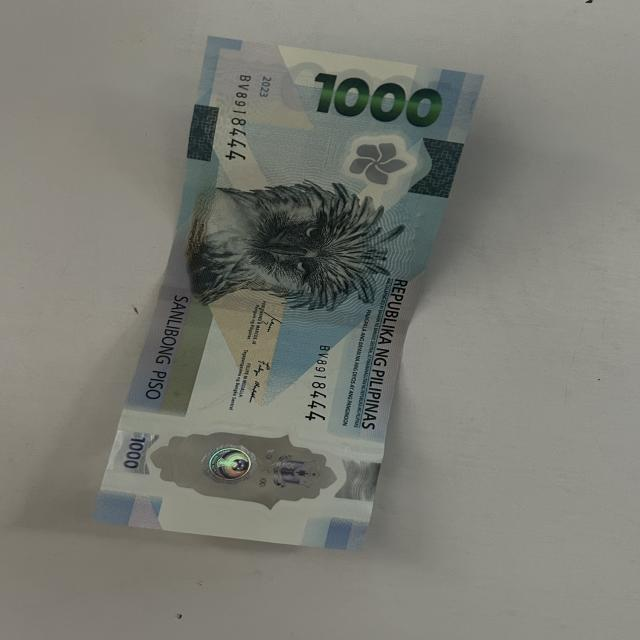clear_window: (148, 423, 343, 513)
eagle: (196, 180, 390, 312)
sampaguita: (346, 136, 411, 186)
security_thread: (156, 285, 411, 337)
serial_number: (219, 65, 272, 175), (292, 334, 350, 431)
value: (300, 62, 454, 131)
